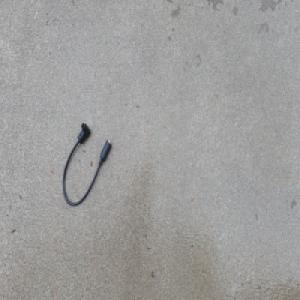Wire: (60, 120, 112, 208)
